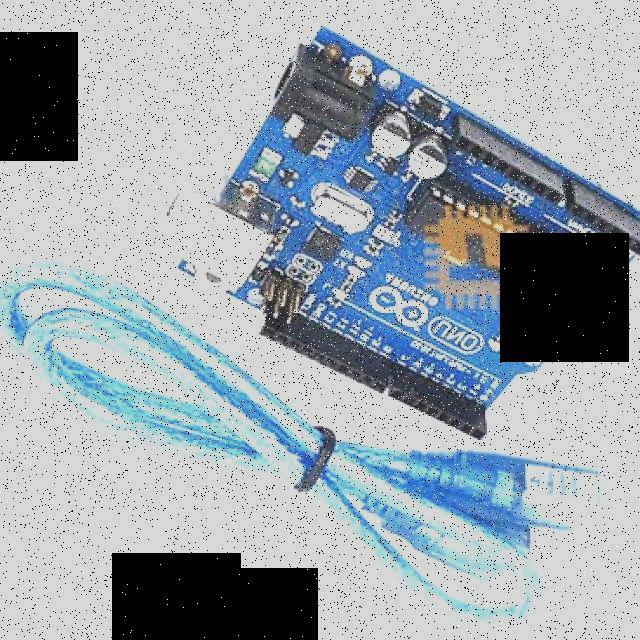arduino: (177, 23, 640, 445)
